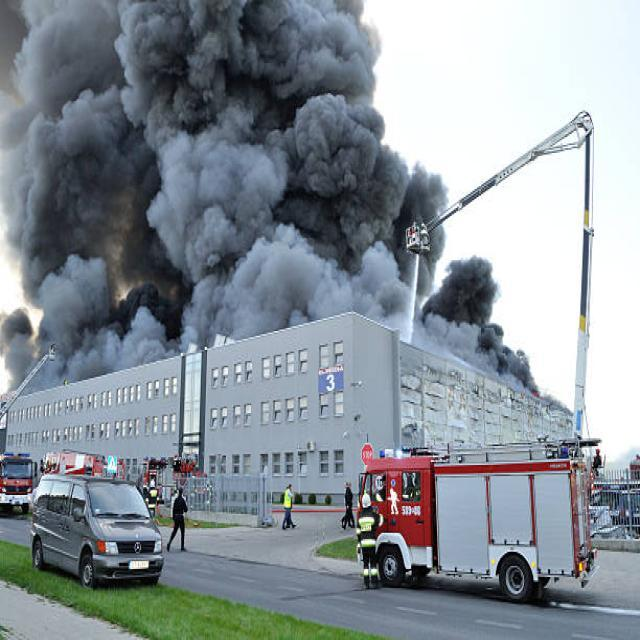Fire: (357, 493, 384, 591), (343, 482, 355, 530)
Smoke: (0, 0, 541, 399)
